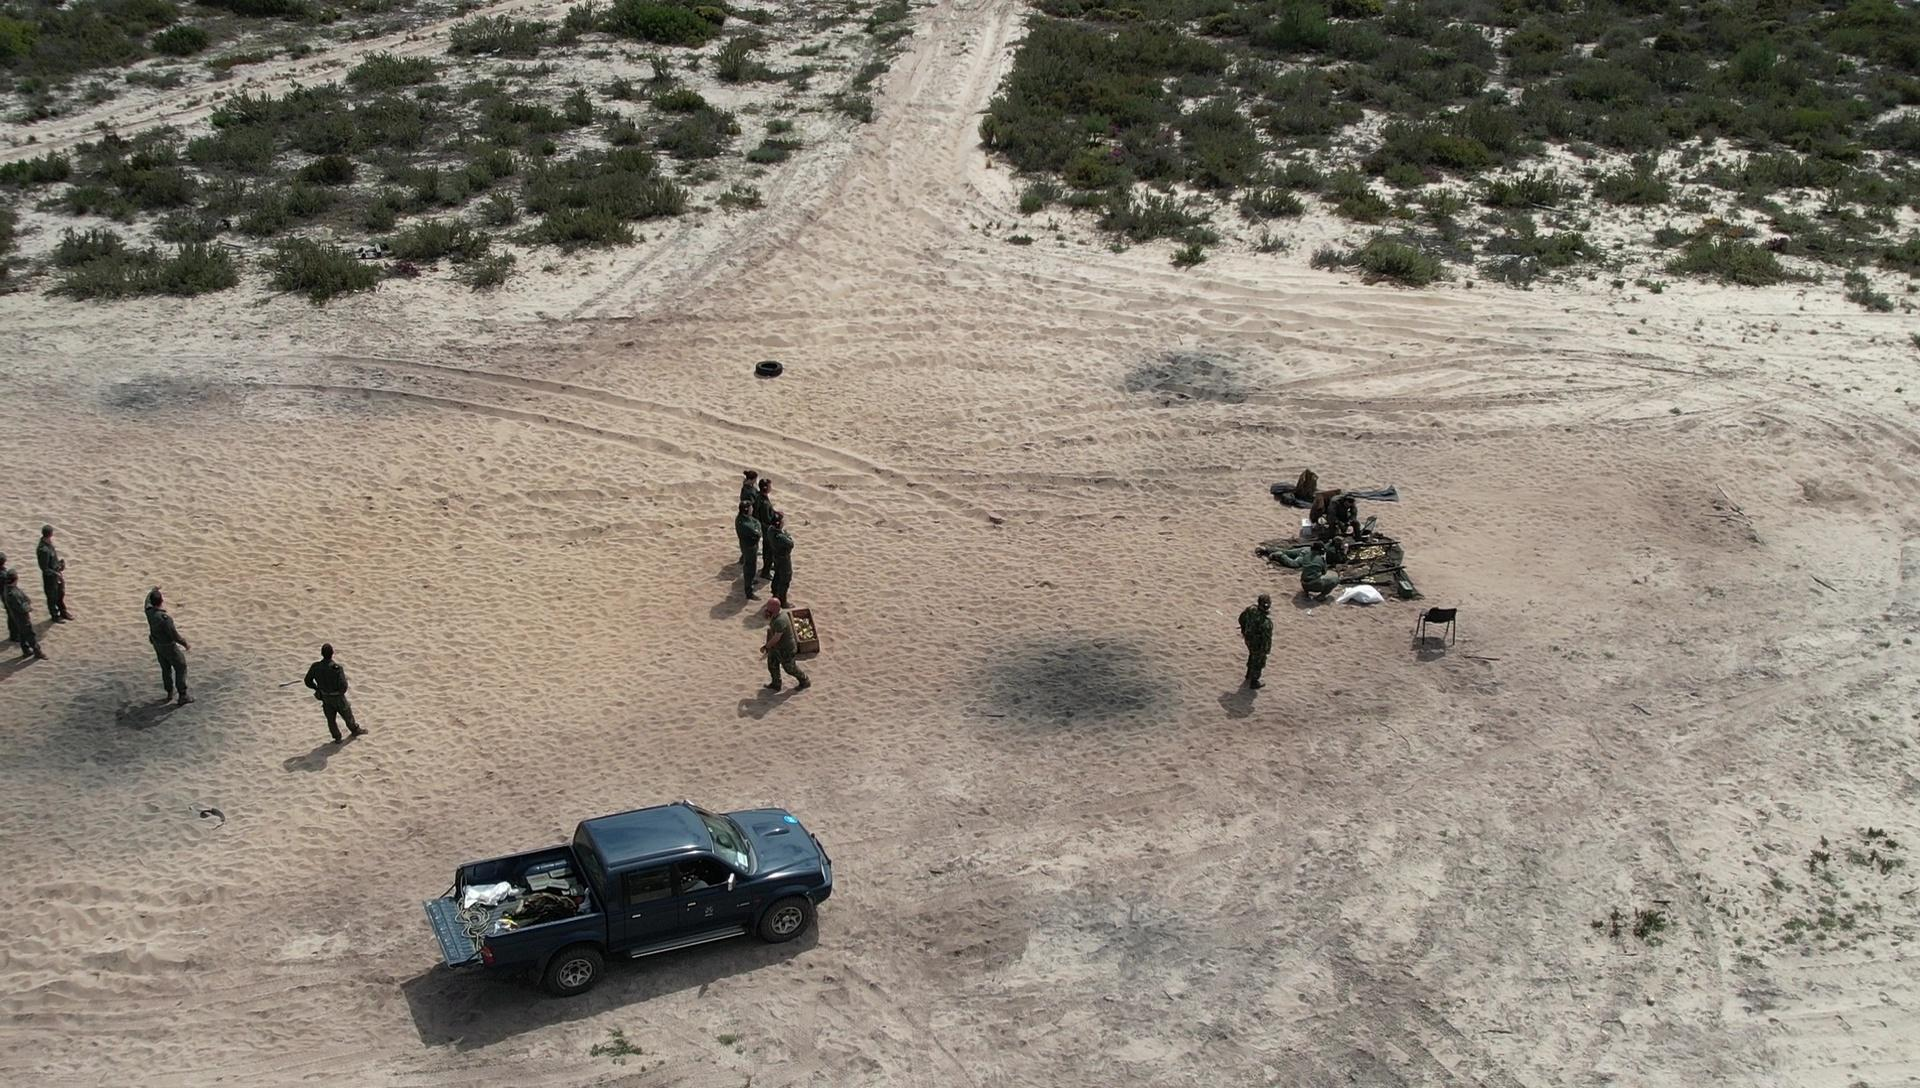Soldier: (291, 636, 372, 768), (1226, 579, 1283, 733), (746, 586, 825, 692), (129, 609, 207, 713), (22, 529, 80, 632), (735, 499, 793, 586), (735, 491, 781, 586), (1299, 495, 1371, 550), (1298, 525, 1331, 619), (731, 485, 762, 549)
